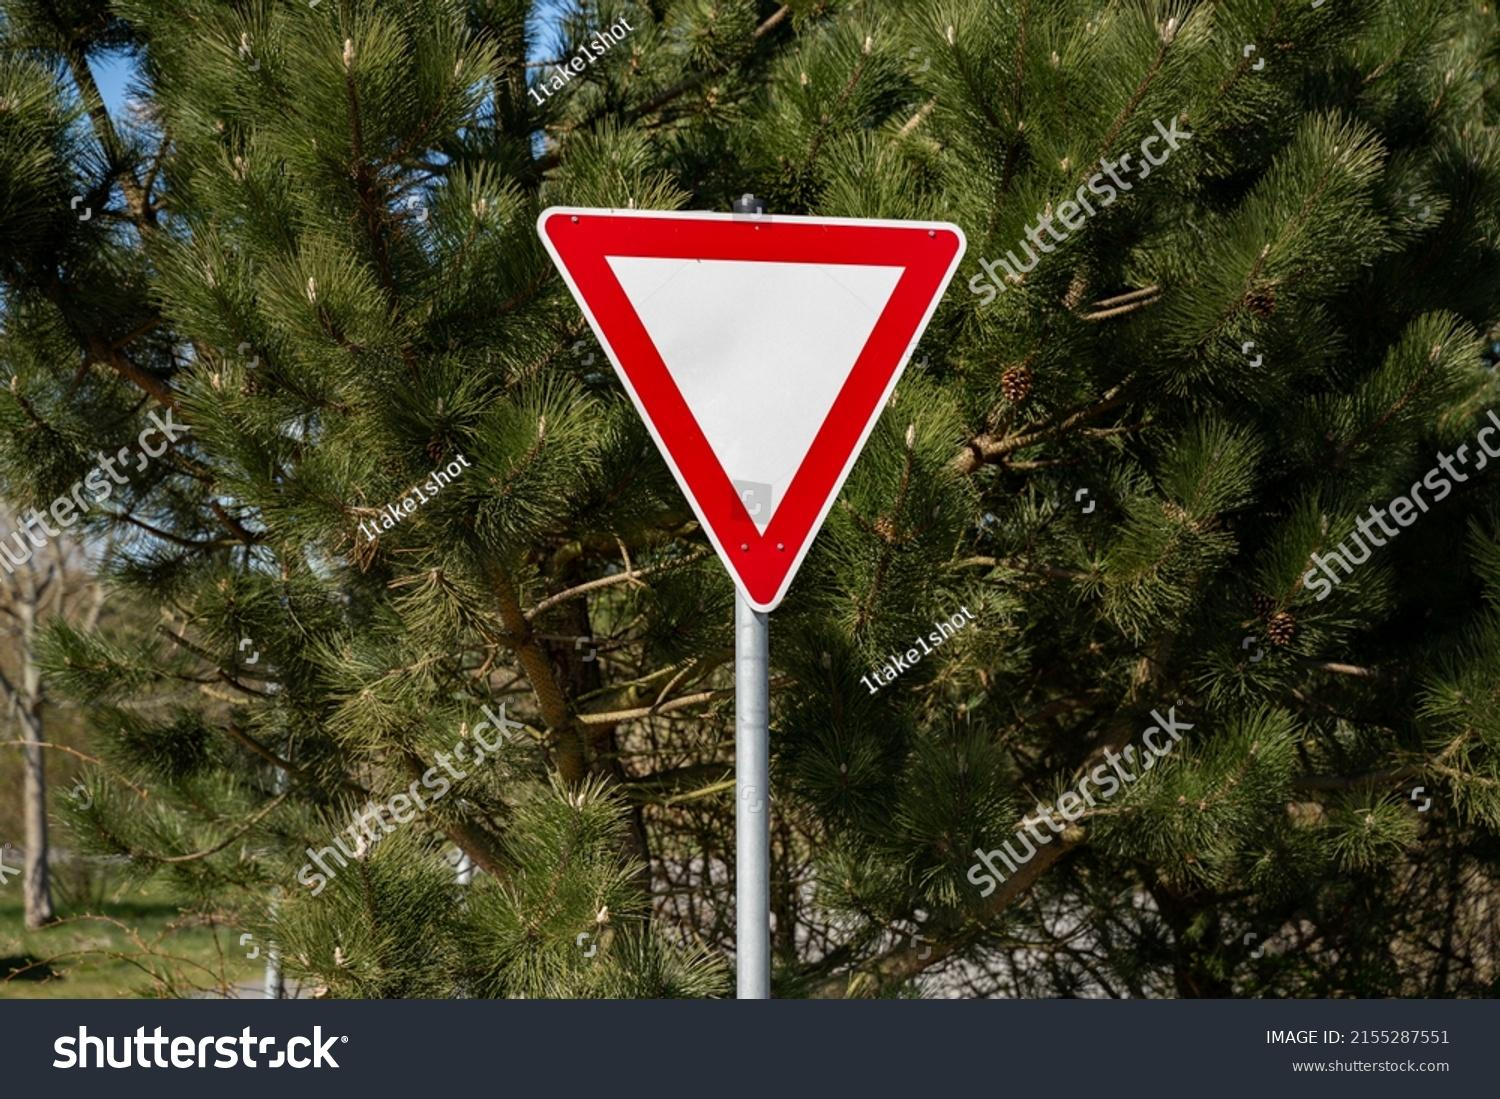Give Way: (505, 113, 979, 617)
